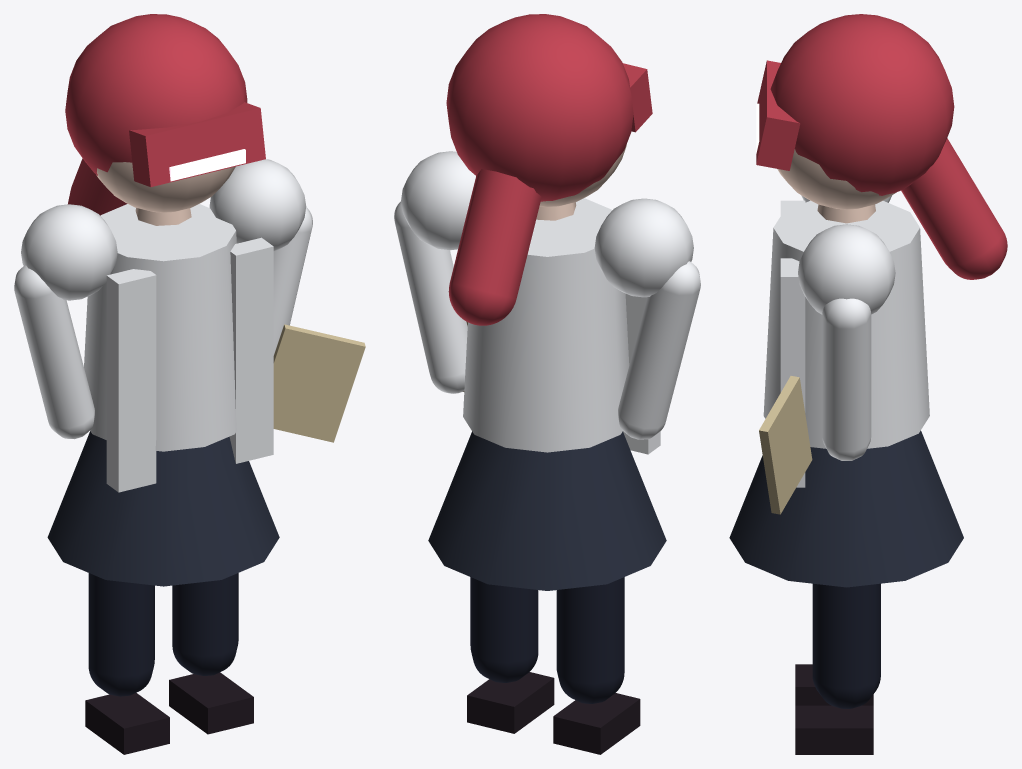
The model's file is ruth.glb.
3 renders of one model, left to right at view 1: azimuth 30°, elevation 25°; view 2: azimuth 150°, elevation 25°; view 3: azimuth 270°, elevation 25°, orthographic. The views are drawn at different scales.
Parts seen in each view (by area): view 1: Ruth; view 2: Ruth; view 3: Ruth.
Part boxes in pixels (x1=…): Ruth: x1=14, y1=14, x2=365, y2=754; Ruth: x1=394, y1=14, x2=700, y2=754; Ruth: x1=729, y1=14, x2=1007, y2=754.
Size of the model in its own units: 1.47 by 3.16 by 1.14.
